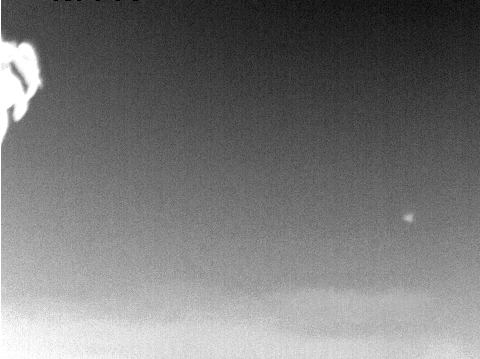dim target: (400, 212, 414, 223)
